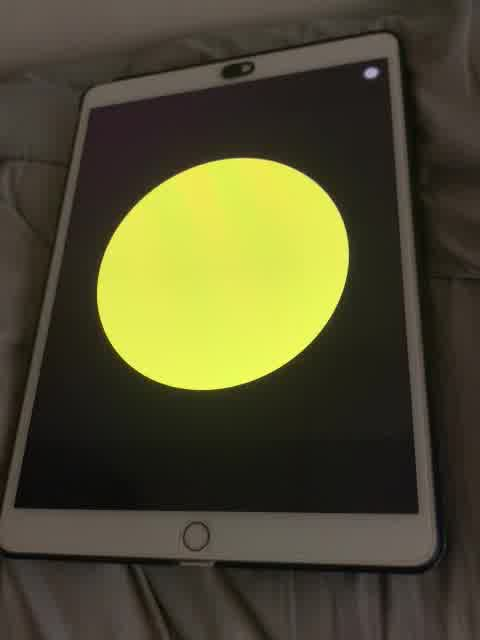left: (91, 148, 362, 398)
